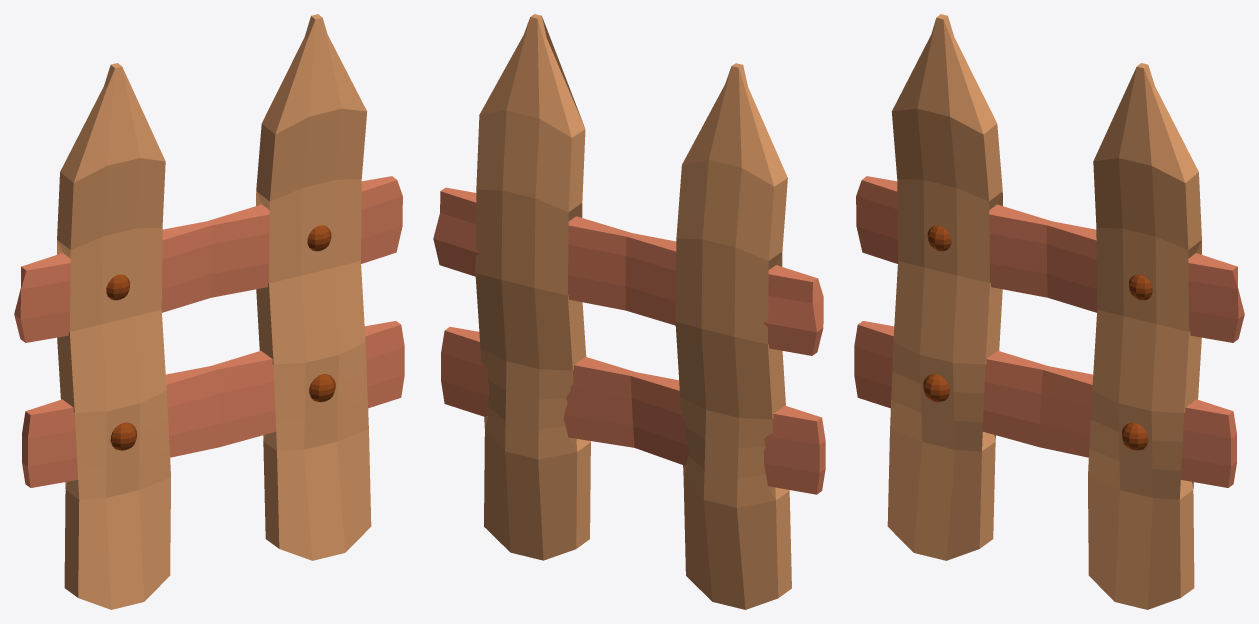
File: Fence (1).fbx
3 views of the same model, side by side, from view 1: azimuth 30°, elevation 25°; view 2: azimuth 150°, elevation 25°; view 3: azimuth 330°, elevation 25° (orthographic).
Visible parts, largest first — view 1: Fence; view 2: Fence; view 3: Fence.
Boxes of the visible parts, bbox=[...] form: Fence: bbox=[14, 14, 404, 609]; Fence: bbox=[433, 14, 825, 609]; Fence: bbox=[854, 14, 1244, 609].
Bounding box in the file's own units: 145 × 192 × 20.3.
